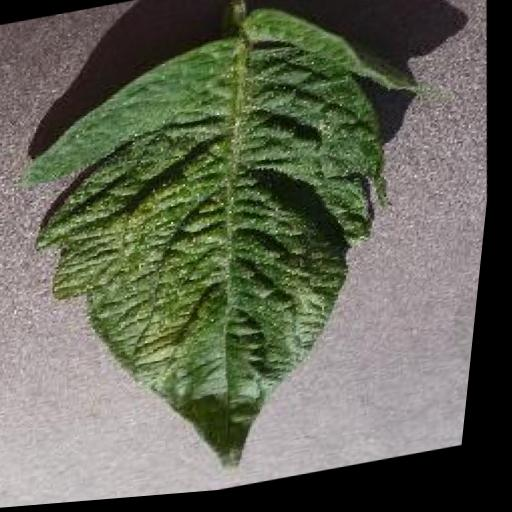Spider Mites: (0, 0, 464, 510)
